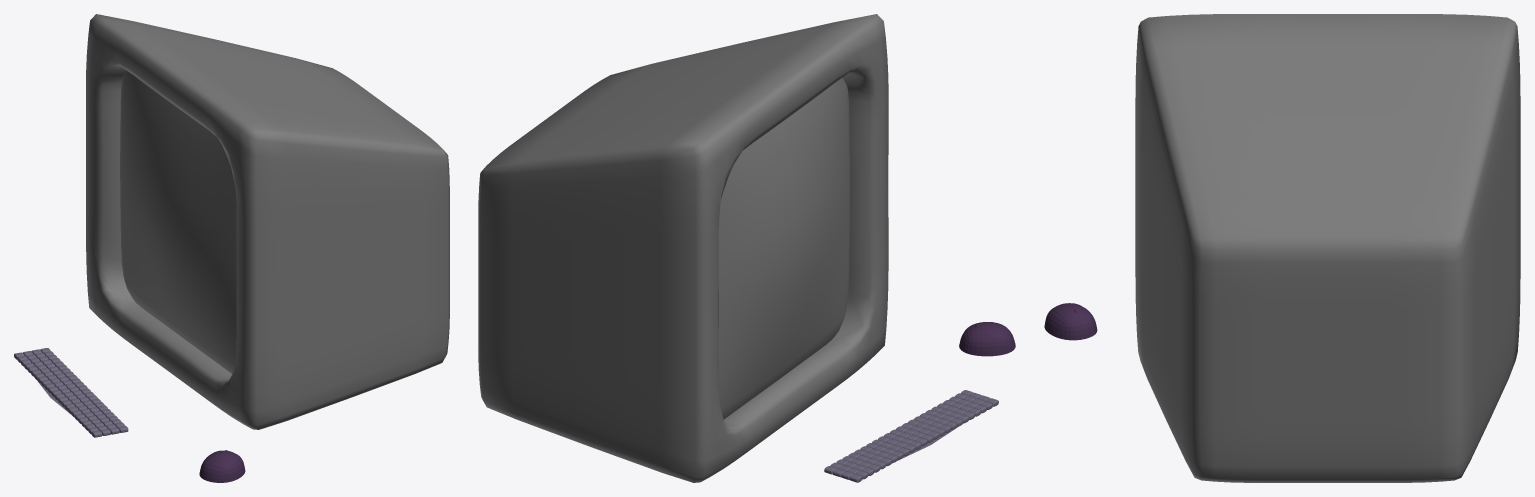
File: computer.fbx
3 views of the same model, side by side, from view 1: azimuth 30°, elevation 25°; view 2: azimuth 150°, elevation 25°; view 3: azimuth 270°, elevation 25° (orthographic). The views are drawn at different scales.
Parts seen in each view (by area): view 1: table.002; view 2: table.002; view 3: table.002.
Part boxes in pixels (<box>): table.002: <box>14,14,449,482</box>; table.002: <box>478,14,1015,482</box>; table.002: <box>1044,14,1520,482</box>.
Bounding box in the file's own units: 506 × 417 × 511.
